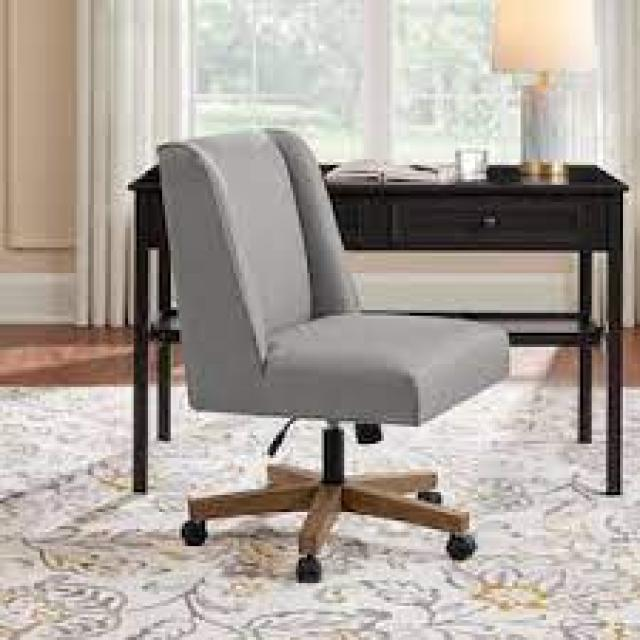chair: (107, 95, 534, 640)
